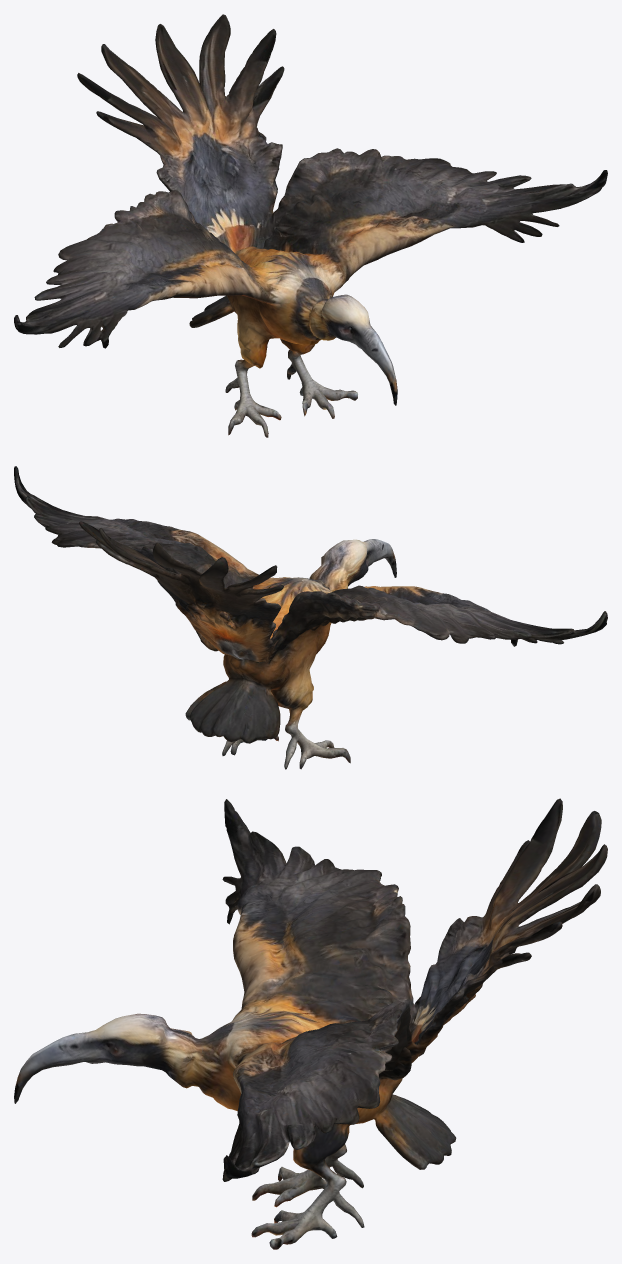
Rendered from vulture.glb.
The picture shows the model from 3 angles, top to bottom: view 1: azimuth 30°, elevation 25°; view 2: azimuth 150°, elevation 25°; view 3: azimuth 270°, elevation 25°; orthographic projection. The views are drawn at different scales.
Size of the model in its own units: 2 by 0.9759 by 1.39.
Materials: 1 (1 with a texture image).
